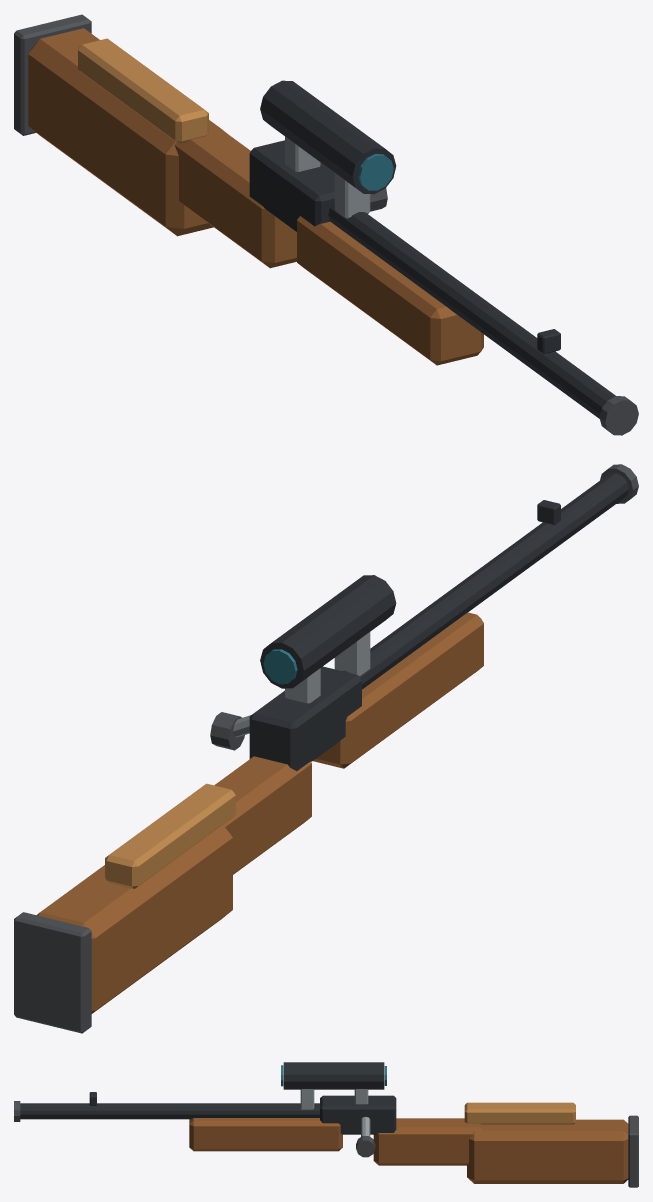
Rendered from HuntingRifle.glb.
3 renders of one model, top to bottom at view 1: azimuth 30°, elevation 25°; view 2: azimuth 150°, elevation 25°; view 3: azimuth 270°, elevation 25°, orthographic. The views are drawn at different scales.
Visible parts, largest first — view 1: FTF_Weapon_BoltActionHuntingRifle_WoodScope_Mesh; view 2: FTF_Weapon_BoltActionHuntingRifle_WoodScope_Mesh; view 3: FTF_Weapon_BoltActionHuntingRifle_WoodScope_Mesh.
Boxes of the visible parts, bbox=[...] form: FTF_Weapon_BoltActionHuntingRifle_WoodScope_Mesh: bbox=[14, 14, 638, 435]; FTF_Weapon_BoltActionHuntingRifle_WoodScope_Mesh: bbox=[14, 464, 638, 1033]; FTF_Weapon_BoltActionHuntingRifle_WoodScope_Mesh: bbox=[14, 1062, 638, 1187].
Bounding box in the file's own units: 0.685 × 1.2 × 5.9.
